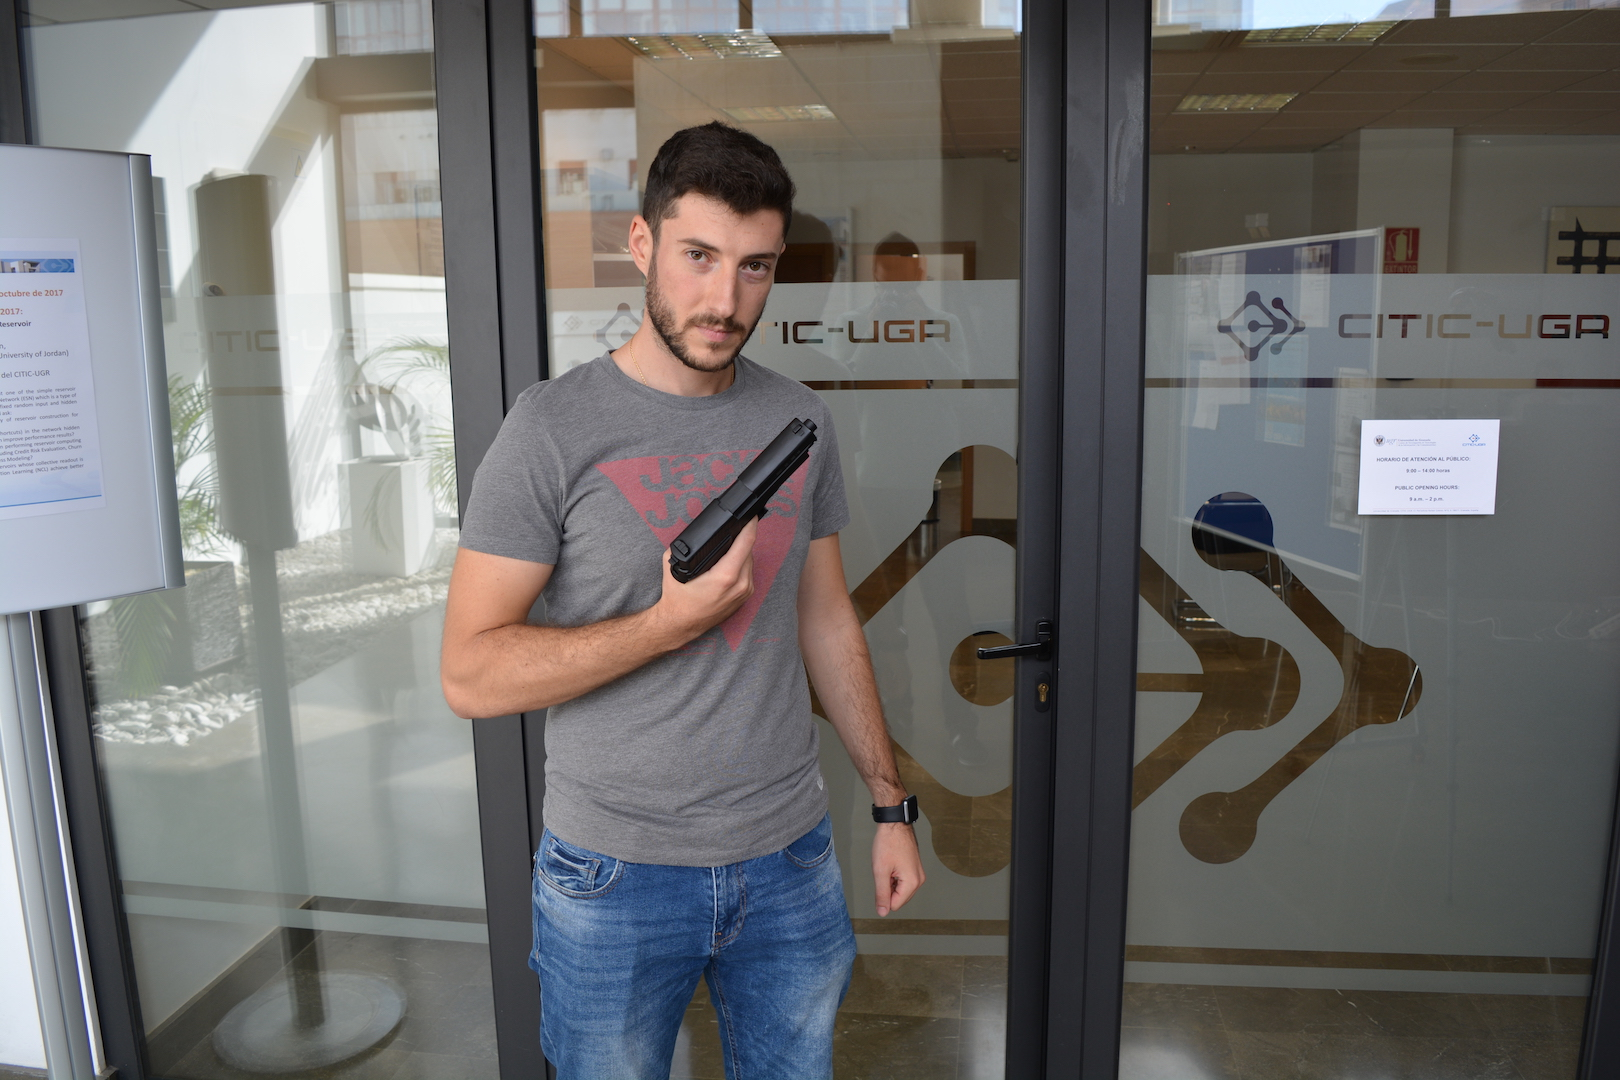pistol: (668, 418, 818, 585)
